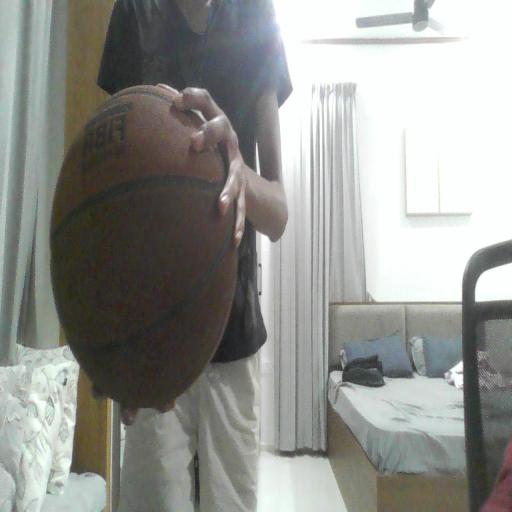basketball: (50, 87, 236, 408)
